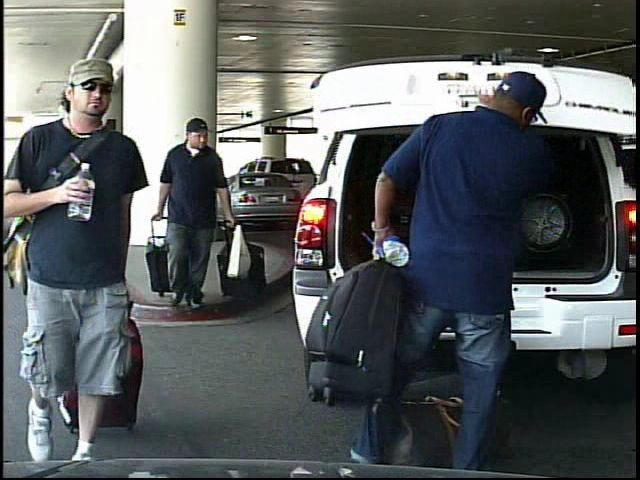person: (355, 74, 541, 476), (8, 60, 172, 480), (159, 114, 250, 315)
